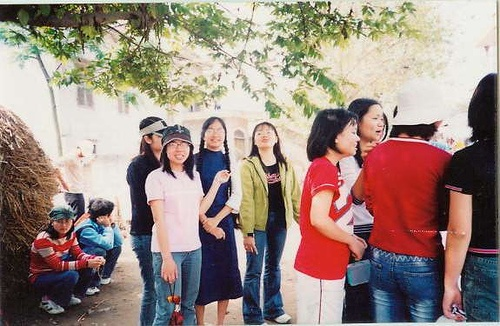head: (311, 109, 358, 169), (347, 96, 386, 163), (250, 120, 282, 161), (198, 116, 230, 156), (162, 129, 193, 166), (137, 115, 164, 155), (47, 206, 76, 240), (89, 197, 115, 228)
person: (353, 94, 450, 326), (291, 106, 365, 322), (143, 121, 210, 326), (234, 115, 299, 325), (192, 116, 241, 323), (124, 113, 166, 325), (27, 205, 102, 314), (72, 196, 122, 289)
